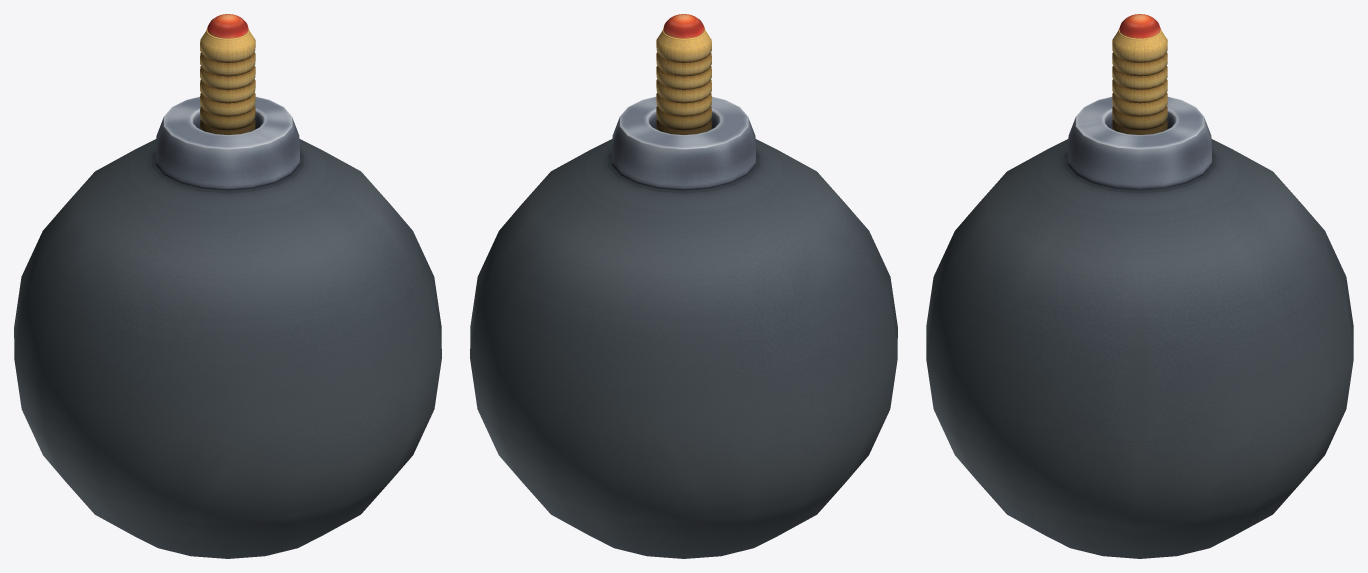
The model's file is Bomb.fbx.
The picture shows the model from 3 angles, left to right: view 1: azimuth 30°, elevation 25°; view 2: azimuth 150°, elevation 25°; view 3: azimuth 270°, elevation 25°; orthographic projection.
Visible parts, largest first — view 1: Sphere, cylinder, roop, fire; view 2: Sphere, cylinder, roop, fire; view 3: Sphere, cylinder, roop, fire.
Boxes of the visible parts, x1,y1,x2,y2 form: Sphere: (14,139,441,558); cylinder: (156,96,299,190); roop: (200,28,255,134); fire: (207,14,248,38); Sphere: (470,139,897,558); cylinder: (612,96,755,190); roop: (656,28,711,134); fire: (663,14,704,38); Sphere: (926,139,1353,558); cylinder: (1068,96,1211,190); roop: (1112,28,1167,134); fire: (1119,14,1160,38).
Size of the model in its own units: 52.96 by 70.4 by 52.13.
